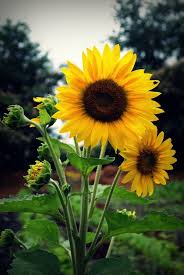girasol: (52, 47, 160, 139), (99, 128, 177, 188)
girasol2meses: (22, 160, 86, 259), (3, 98, 57, 154)
